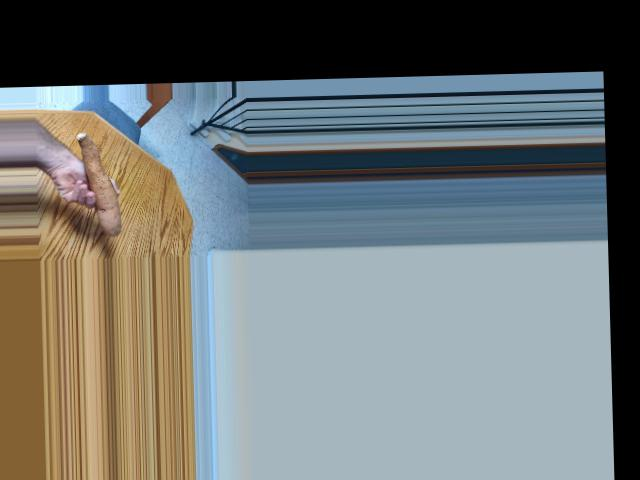sweet_potato: (66, 132, 126, 233)
